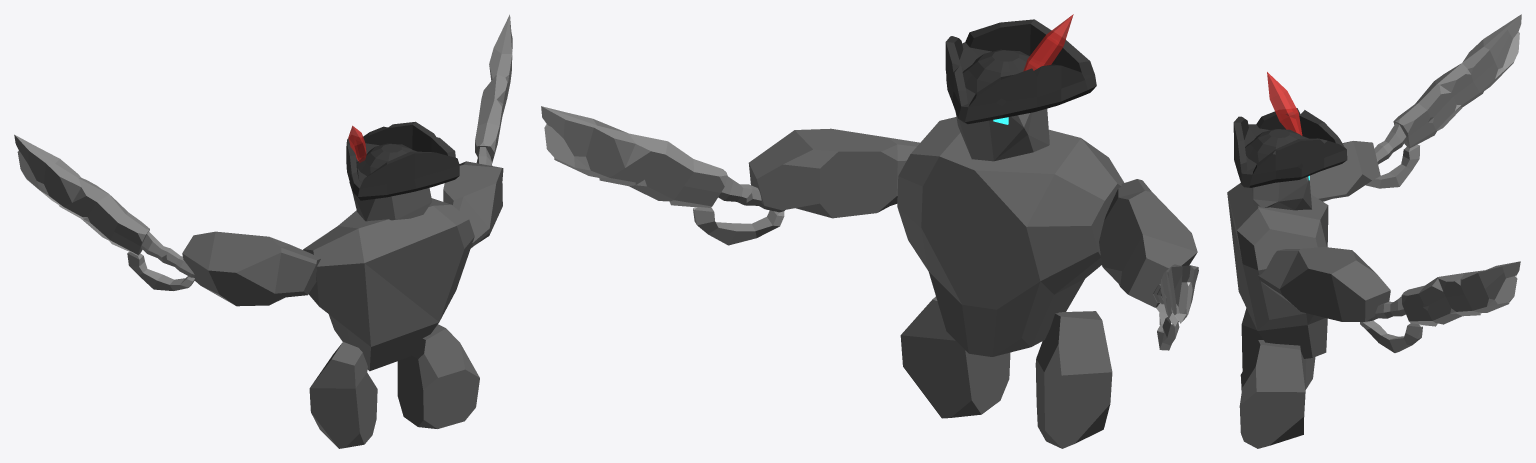
File: golem1.fbx
The picture shows the model from 3 angles, left to right: view 1: azimuth 30°, elevation 25°; view 2: azimuth 150°, elevation 25°; view 3: azimuth 270°, elevation 25°; orthographic projection. The views are drawn at different scales.
Visible parts, largest first — view 1: Cube.003; view 2: Cube.003; view 3: Cube.003.
Part boxes in pixels (<box>): Cube.003: <box>14,14,512,448</box>; Cube.003: <box>541,14,1198,448</box>; Cube.003: <box>1227,14,1521,448</box>.
Size of the model in its own units: 1921 by 1171 by 967.
